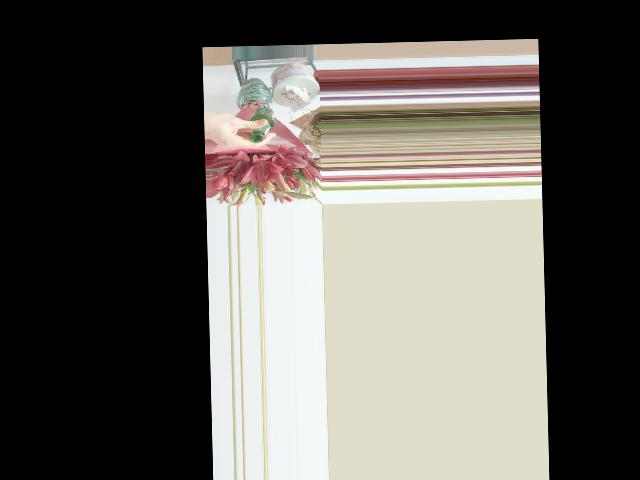beer: (247, 106, 274, 142)
